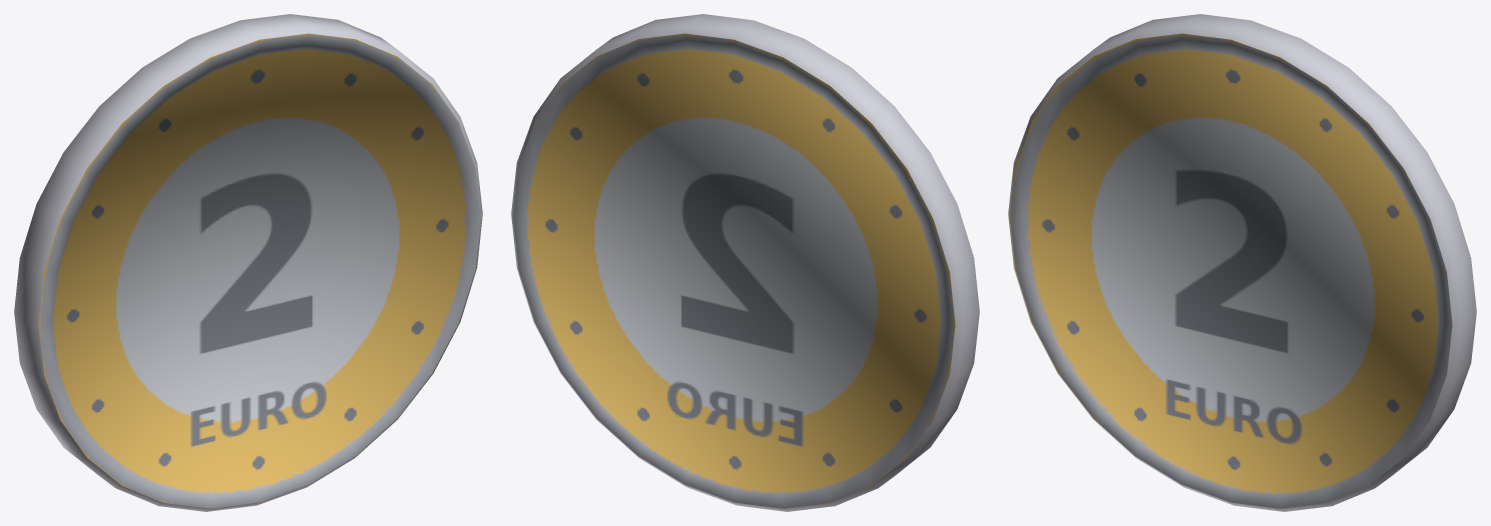
The model's file is Coin_2EUR.obj.
3 renders of one model, left to right at view 1: azimuth 30°, elevation 25°; view 2: azimuth 150°, elevation 25°; view 3: azimuth 330°, elevation 25°, orthographic.
Bounding box in the file's own units: 0.0258 × 0.0258 × 0.0022.
Materials: 2 (1 with a texture image).
